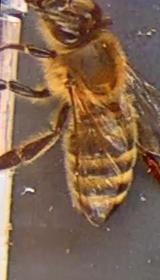varroa_mite: (135, 148, 159, 178)
